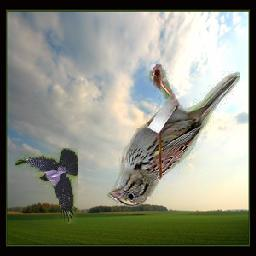Crow: (16, 148, 79, 224)
Sparrow: (106, 65, 240, 208)
